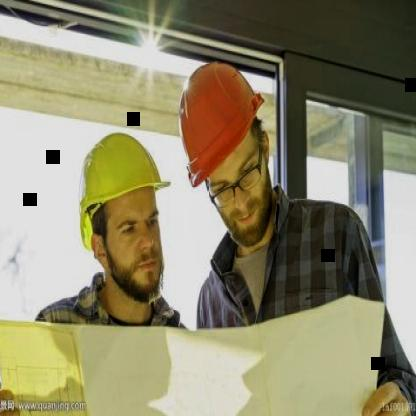helmet: (165, 48, 283, 249), (68, 114, 178, 305)
